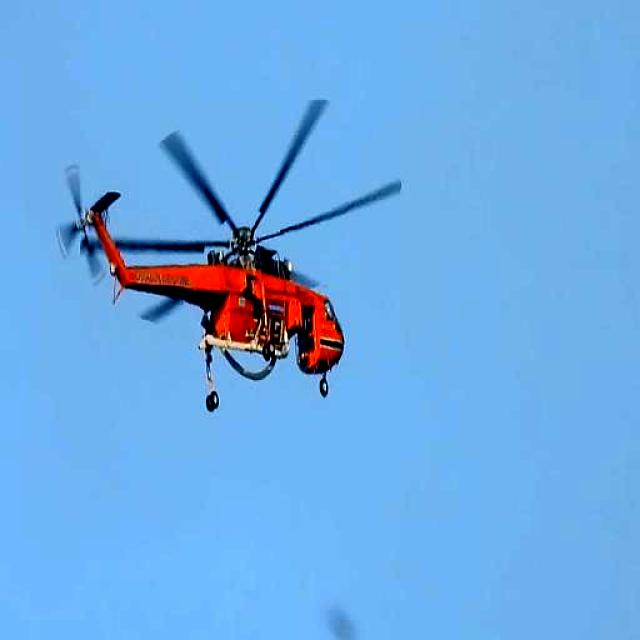drone: (60, 92, 406, 425)
